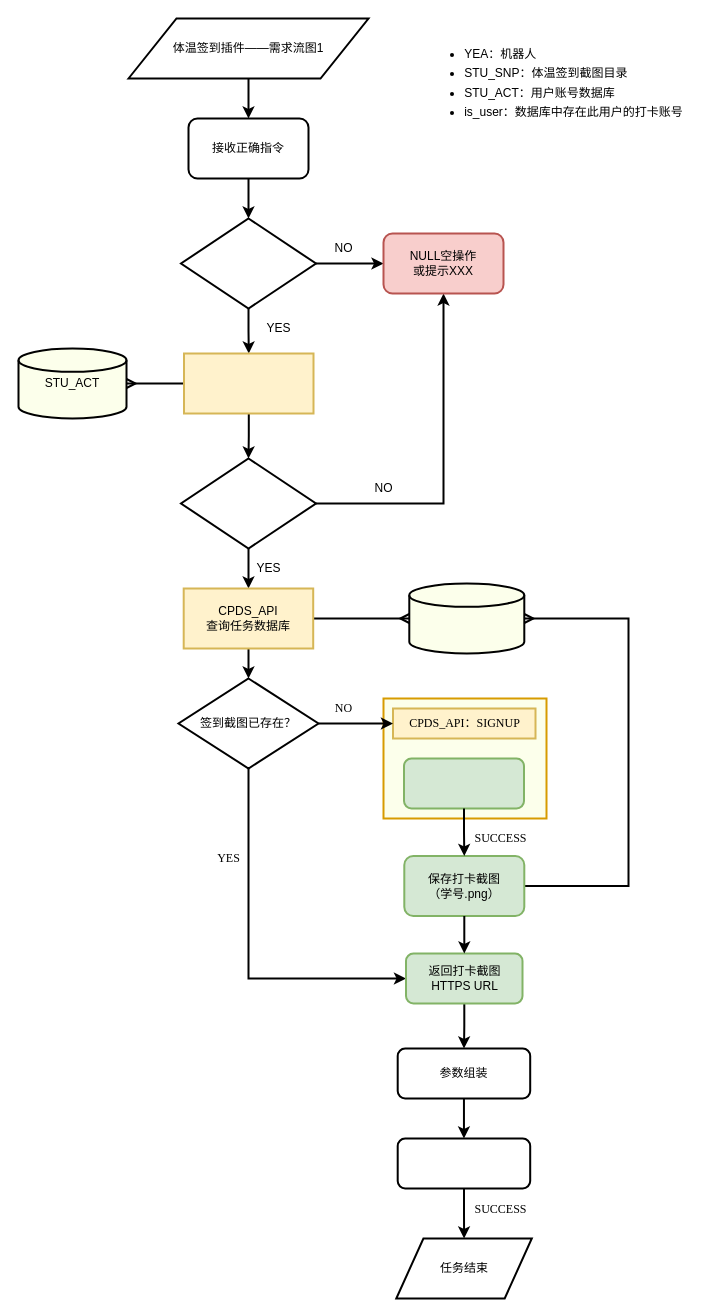
The diagram is 705 pixels wide and 1316 high, and some of its shapes have lost their labels. Each missing label, with the centre of its shape:
"CPDS_API 查询用户数据库" goes at (248,383).
"is_user?" goes at (248,503).
"N方案生成截图" goes at (463,783).
"QQ群内at_用户并发送Message" goes at (463,1163).
"STU_SNP" goes at (466,618).
"来自QQ群？" goes at (248,263).
